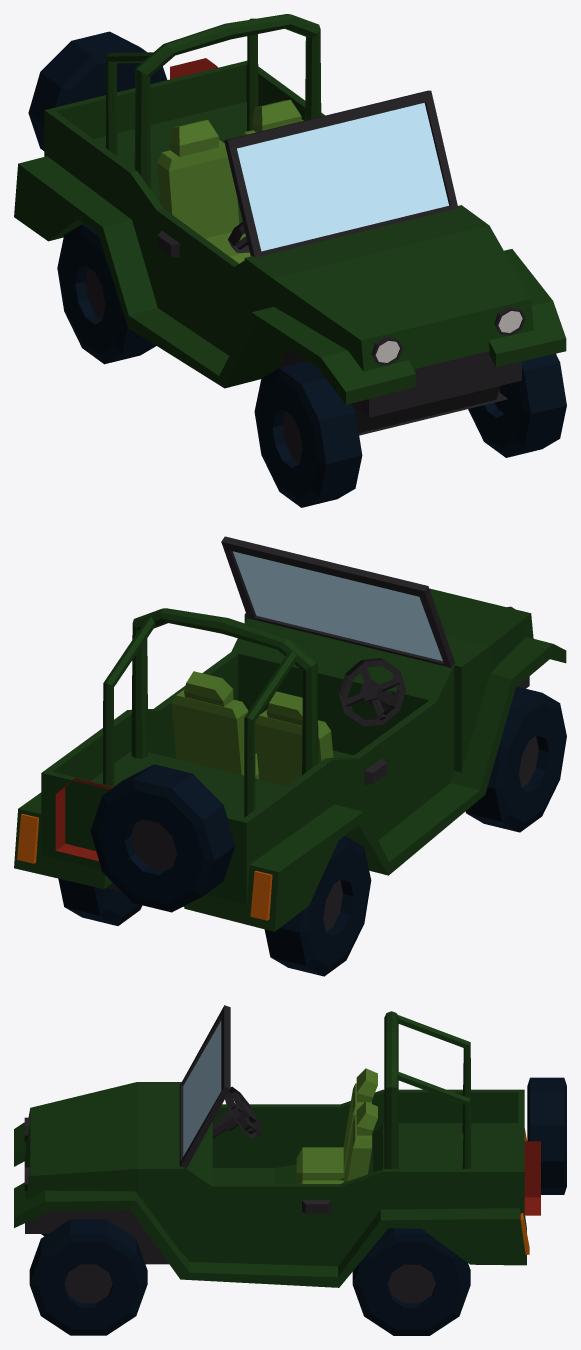
The model's file is jeep.glb.
The picture shows the model from 3 angles, top to bottom: view 1: azimuth 30°, elevation 25°; view 2: azimuth 150°, elevation 25°; view 3: azimuth 270°, elevation 25°; orthographic projection. The views are drawn at different scales.
Visible parts, largest first — view 1: Jeep; view 2: Jeep; view 3: Jeep.
Part boxes in pixels (<box>): Jeep: <box>14,14,566,507</box>; Jeep: <box>14,536,566,976</box>; Jeep: <box>14,1005,566,1335</box>.
Bounding box in the file's own units: 2.04 × 2.33 × 4.56.
1 material, 1 textured.
